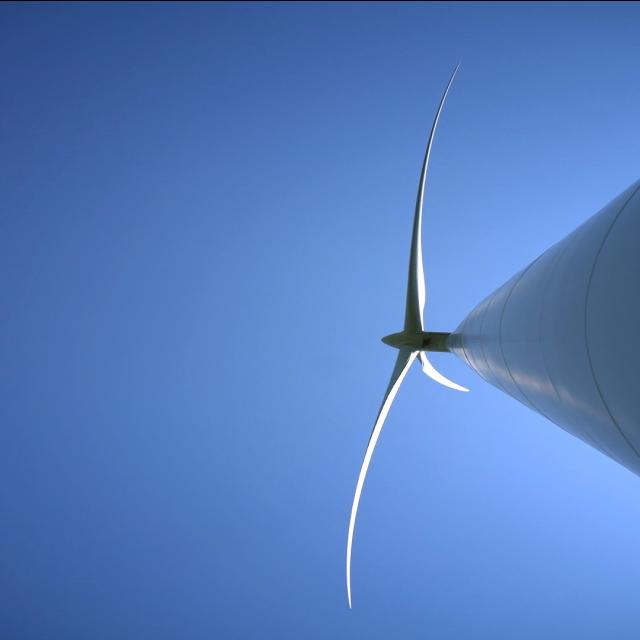blade 1: (418, 365, 474, 419)
blade 2: (320, 403, 398, 607)
blade 3: (389, 69, 455, 292)
